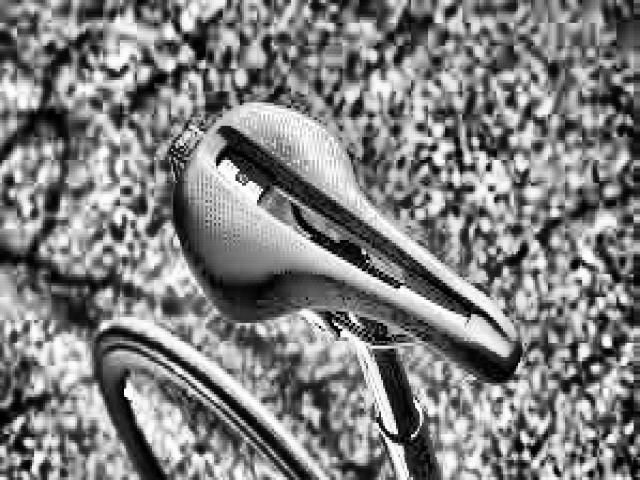saddle: (167, 99, 525, 383)
